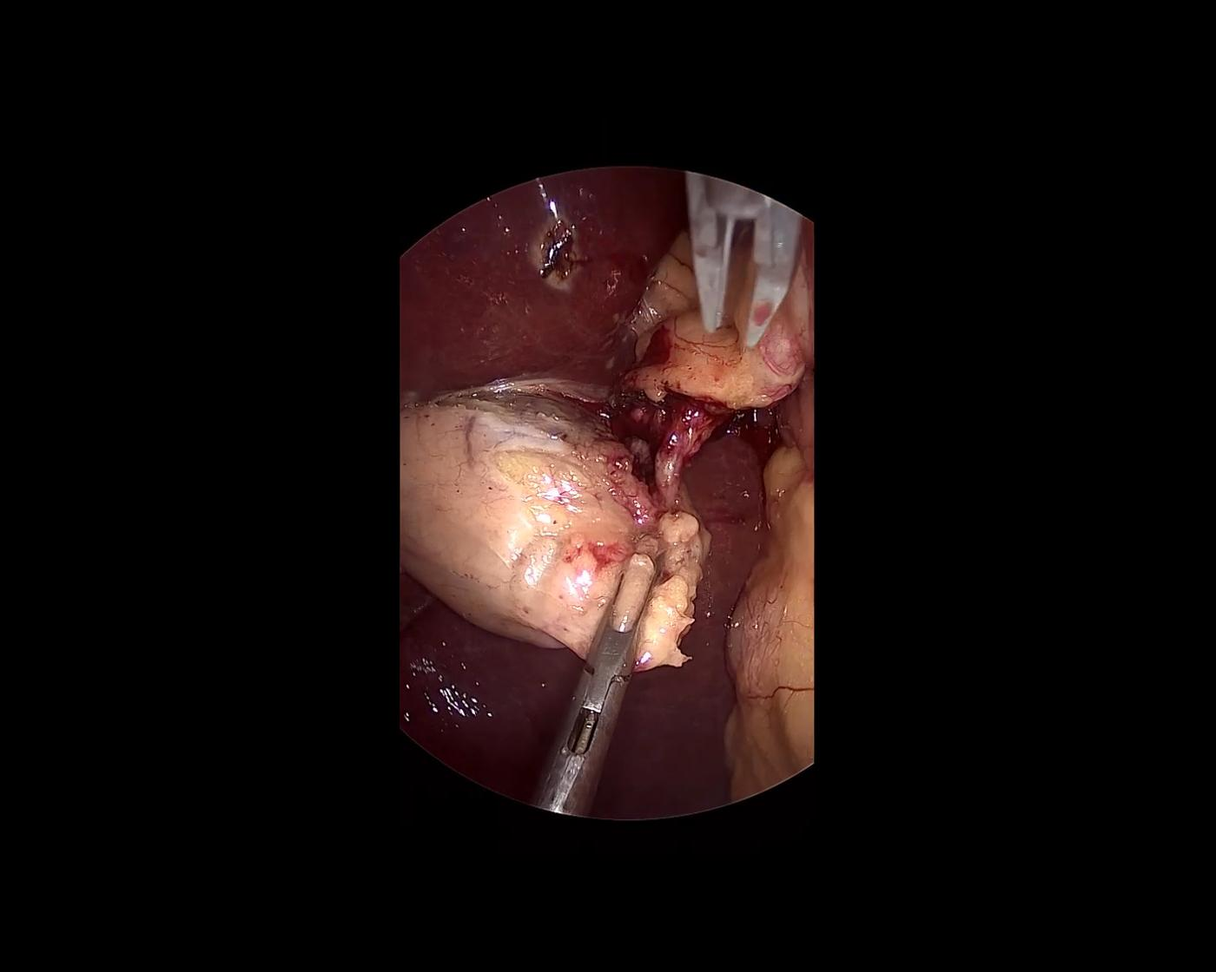Forceps: (528, 516, 682, 820)
Gallbladder: (368, 360, 729, 674)
Liver: (372, 363, 780, 831), (392, 167, 694, 394)
